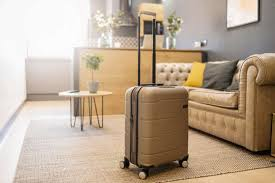suitcase: (116, 12, 191, 180)
